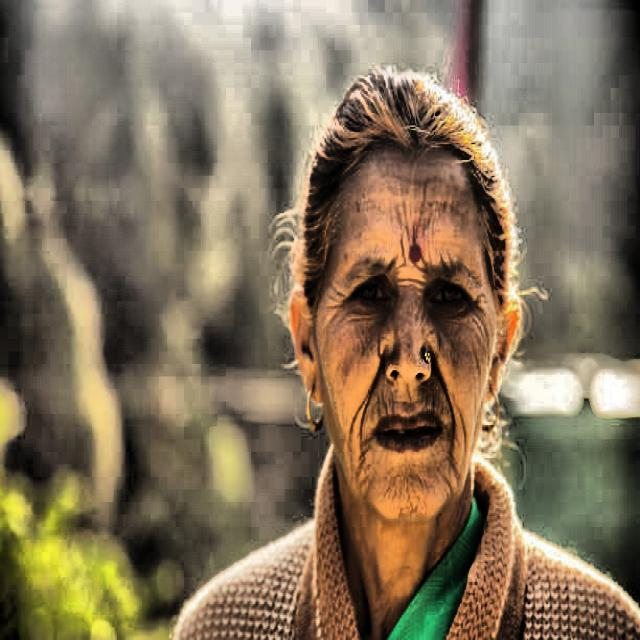Human: (192, 67, 632, 640)
